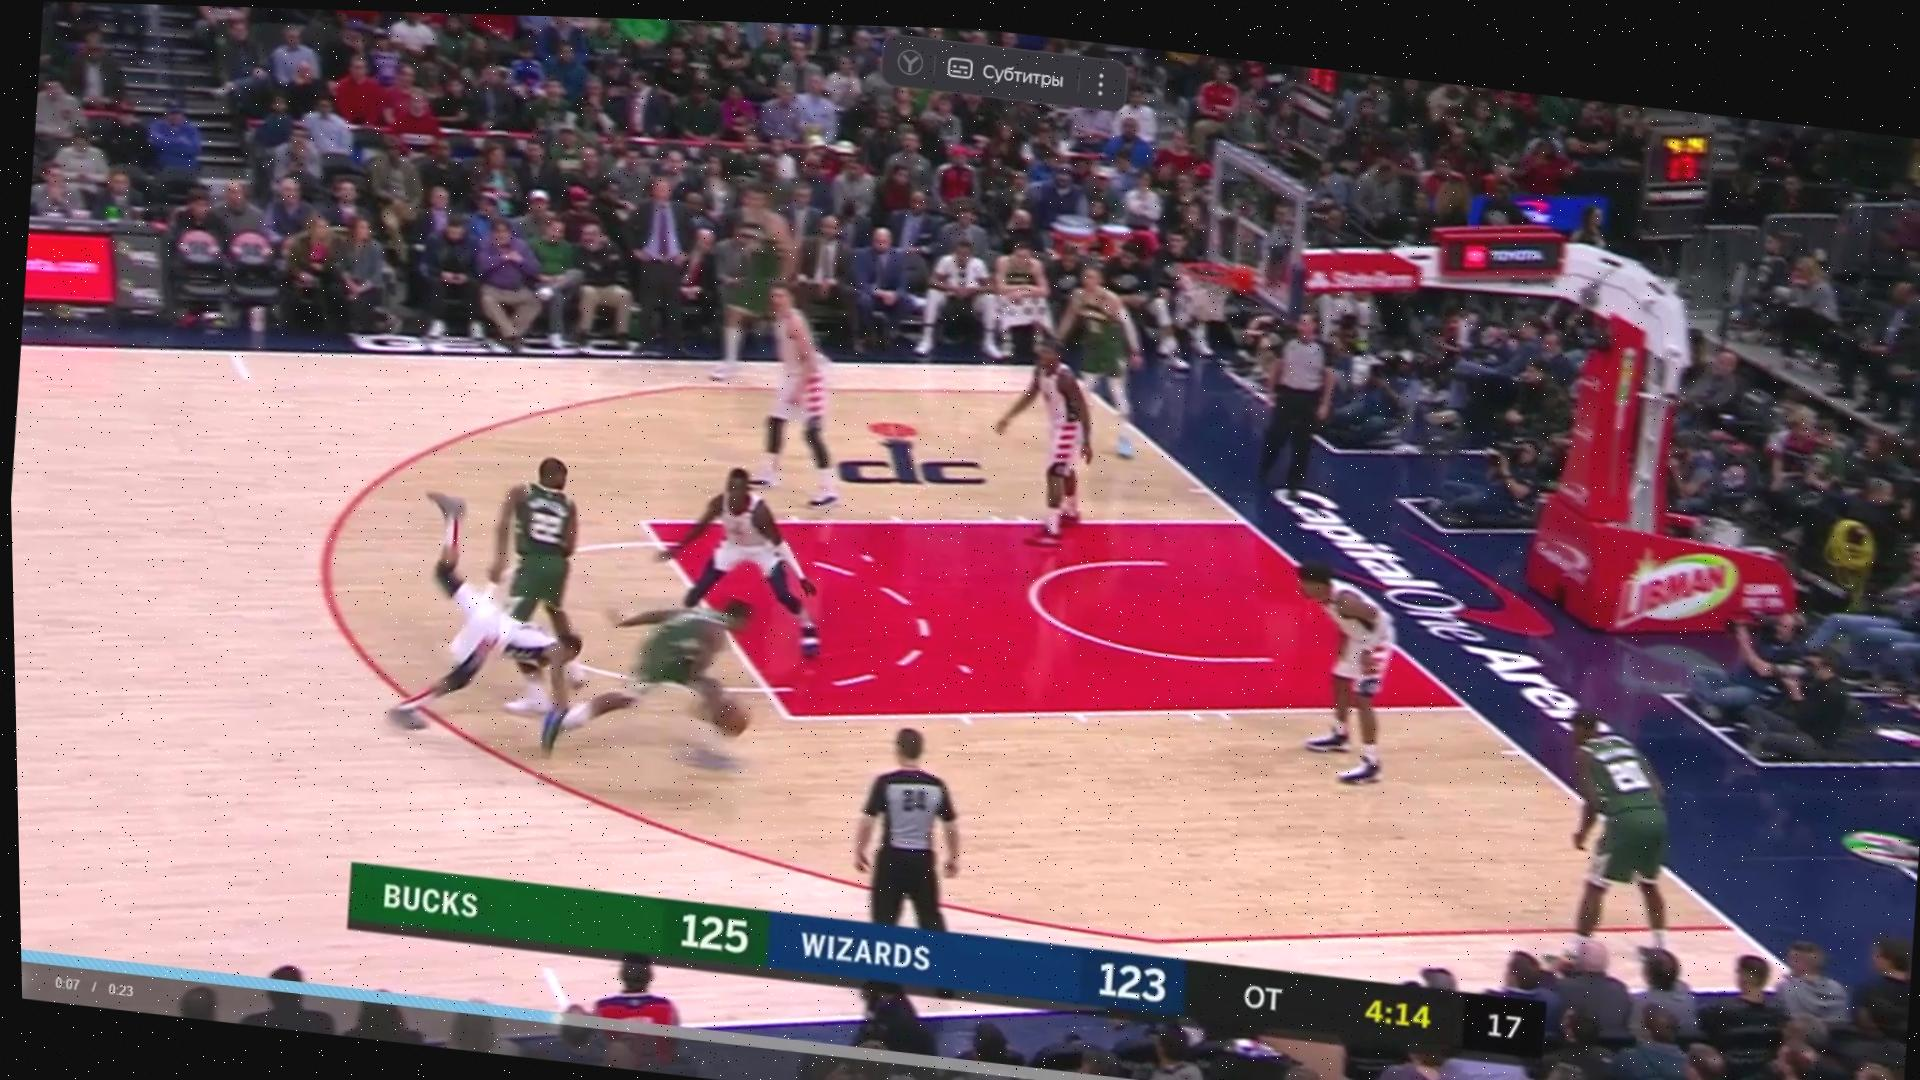foul: (321, 501, 810, 811)
